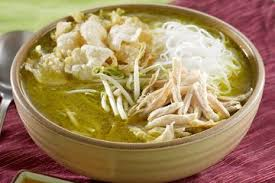soto: (17, 2, 255, 150)
